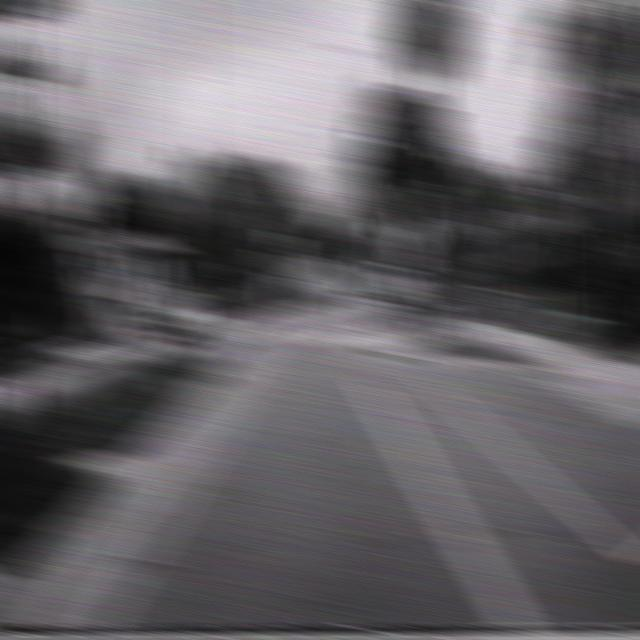pedestrianCrossing: (392, 208, 432, 255)
yield: (371, 223, 402, 250), (268, 230, 298, 256)
